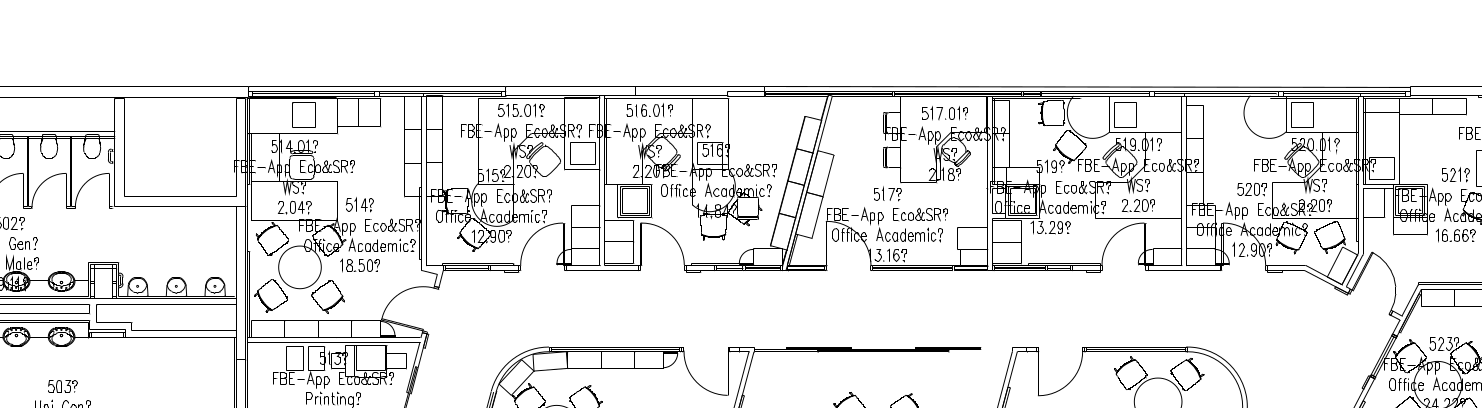door: (1347, 245, 1401, 319), (1033, 342, 1088, 408), (677, 342, 732, 407), (1219, 217, 1271, 282), (1099, 220, 1151, 285), (822, 221, 874, 286), (636, 221, 688, 286), (514, 219, 566, 284), (380, 269, 432, 334), (72, 170, 112, 215), (30, 170, 70, 215)
